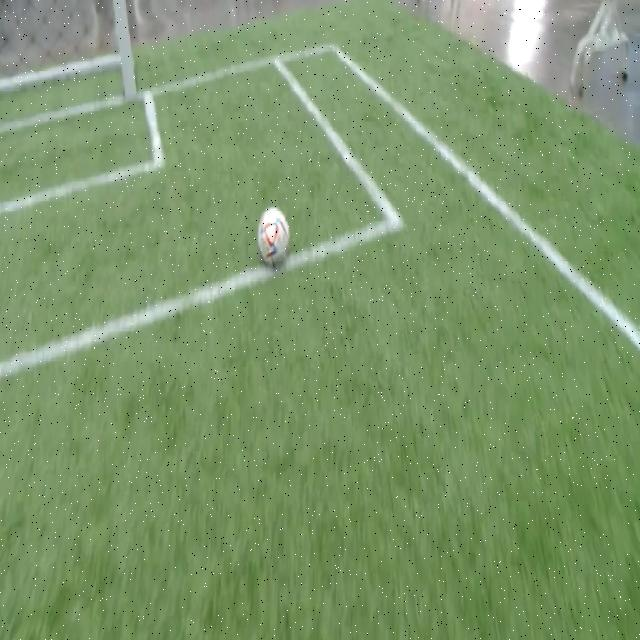ball: (258, 207, 289, 267)
goalpost: (120, 43, 140, 104)
